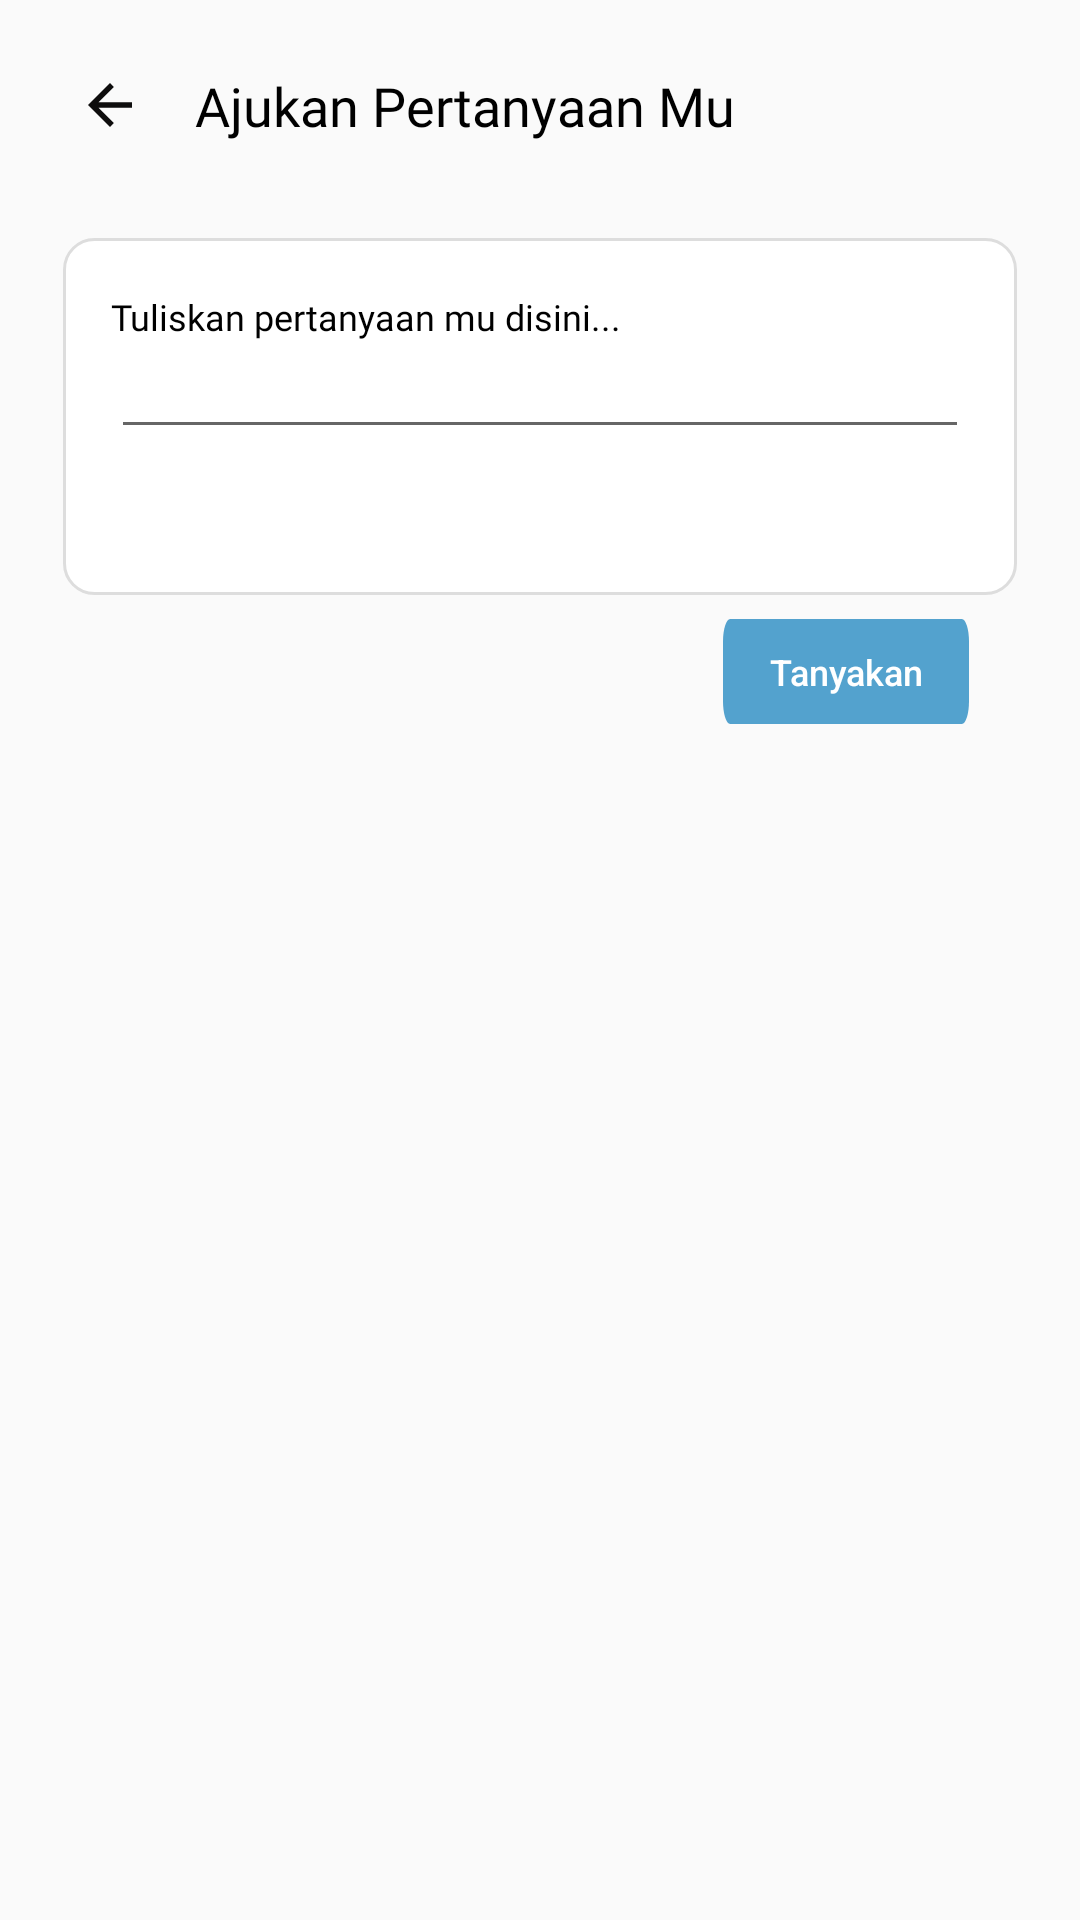

Icon click points for this 1080*1920 phone screenshot, format (x=x, y=y):
arrow back: (x=110, y=105)
